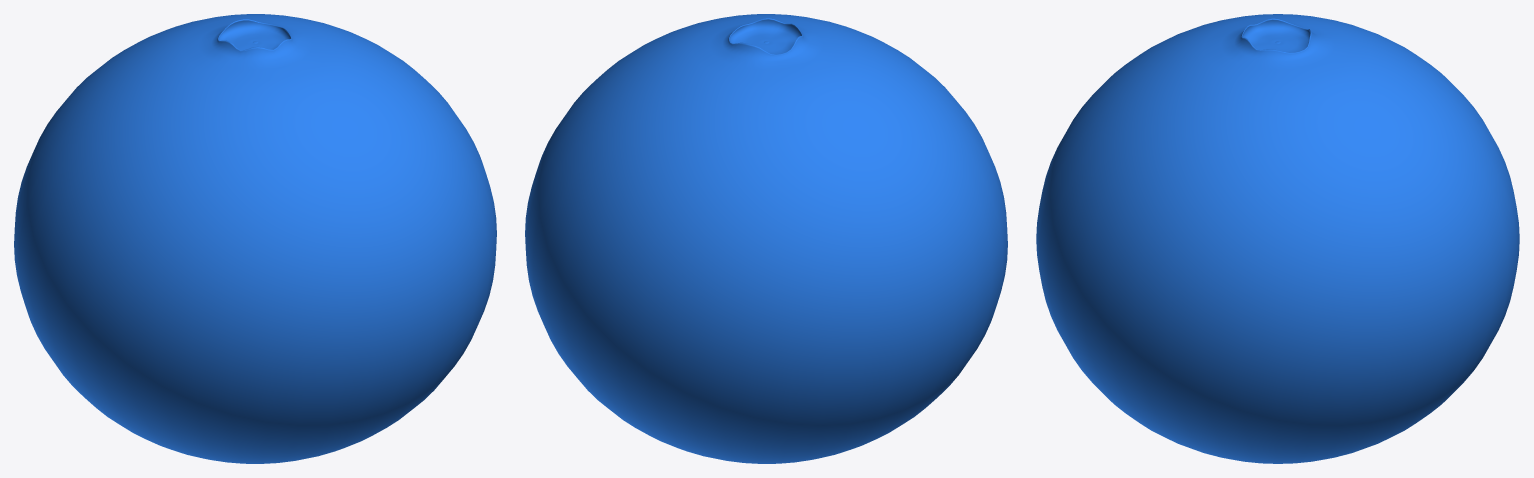
The model's file is BlueBerry.fbx.
3 renders of one model, left to right at view 1: azimuth 30°, elevation 25°; view 2: azimuth 150°, elevation 25°; view 3: azimuth 270°, elevation 25°, orthographic.
Visible parts, largest first — view 1: BlueBerry_Body; view 2: BlueBerry_Body; view 3: BlueBerry_Body.
Part boxes in pixels (bbox=[...]): BlueBerry_Body: bbox=[14, 14, 496, 463]; BlueBerry_Body: bbox=[525, 14, 1007, 463]; BlueBerry_Body: bbox=[1036, 14, 1519, 463].
Size of the model in its own units: 1.96 by 1.96 by 1.81.
